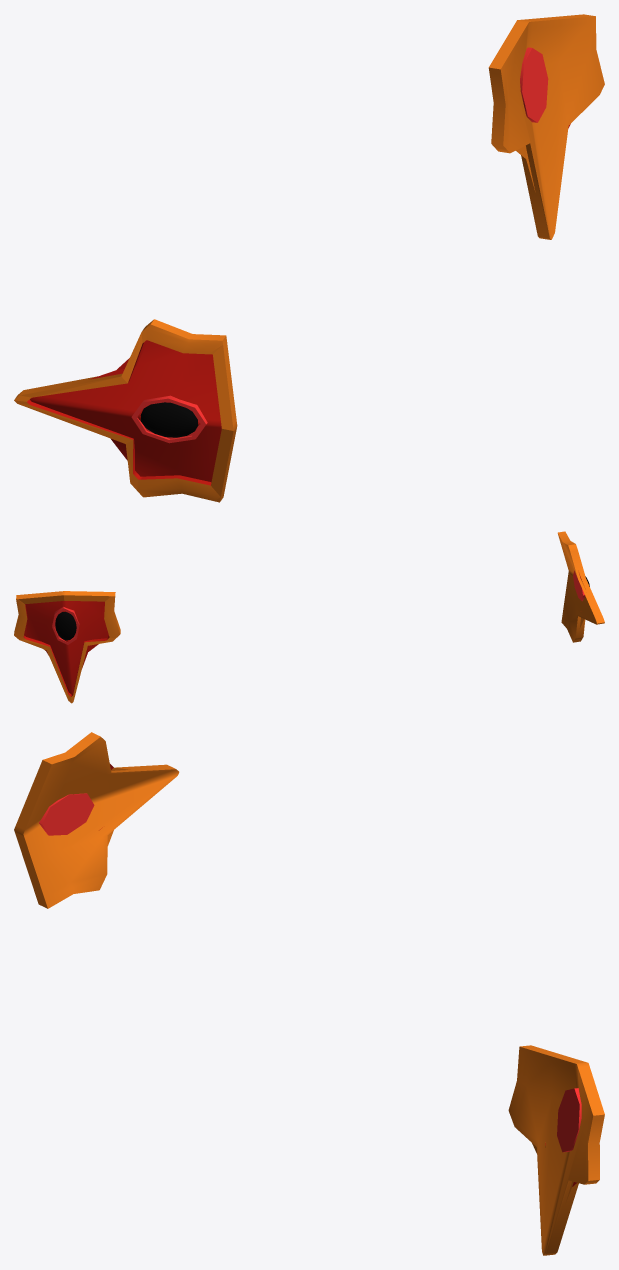
3 views of the same model, one above another, from view 1: azimuth 30°, elevation 25°; view 2: azimuth 150°, elevation 25°; view 3: azimuth 270°, elevation 25° (orthographic). The views are drawn at different scales.
Visible parts, largest first — view 1: hand_armor02_L, hand_armor02_R, gem_001, gem_002; view 2: hand_armor02_R, hand_armor02_L, gem_002; view 3: hand_armor02_L, hand_armor02_R, gem_001, gem_002.
Part boxes in pixels (x1,y1,x2,y2): hand_armor02_L: [14, 319, 237, 502]; hand_armor02_R: [488, 14, 604, 239]; gem_001: [131, 395, 207, 443]; gem_002: [520, 47, 548, 122]; hand_armor02_R: [14, 591, 120, 703]; hand_armor02_L: [557, 531, 604, 642]; gem_002: [52, 607, 79, 644]; hand_armor02_L: [14, 732, 179, 908]; hand_armor02_R: [508, 1045, 604, 1255]; gem_001: [39, 793, 94, 835]; gem_002: [557, 1088, 581, 1152].
Bounding box in the file's own units: 140 × 95.27 × 41.69.
